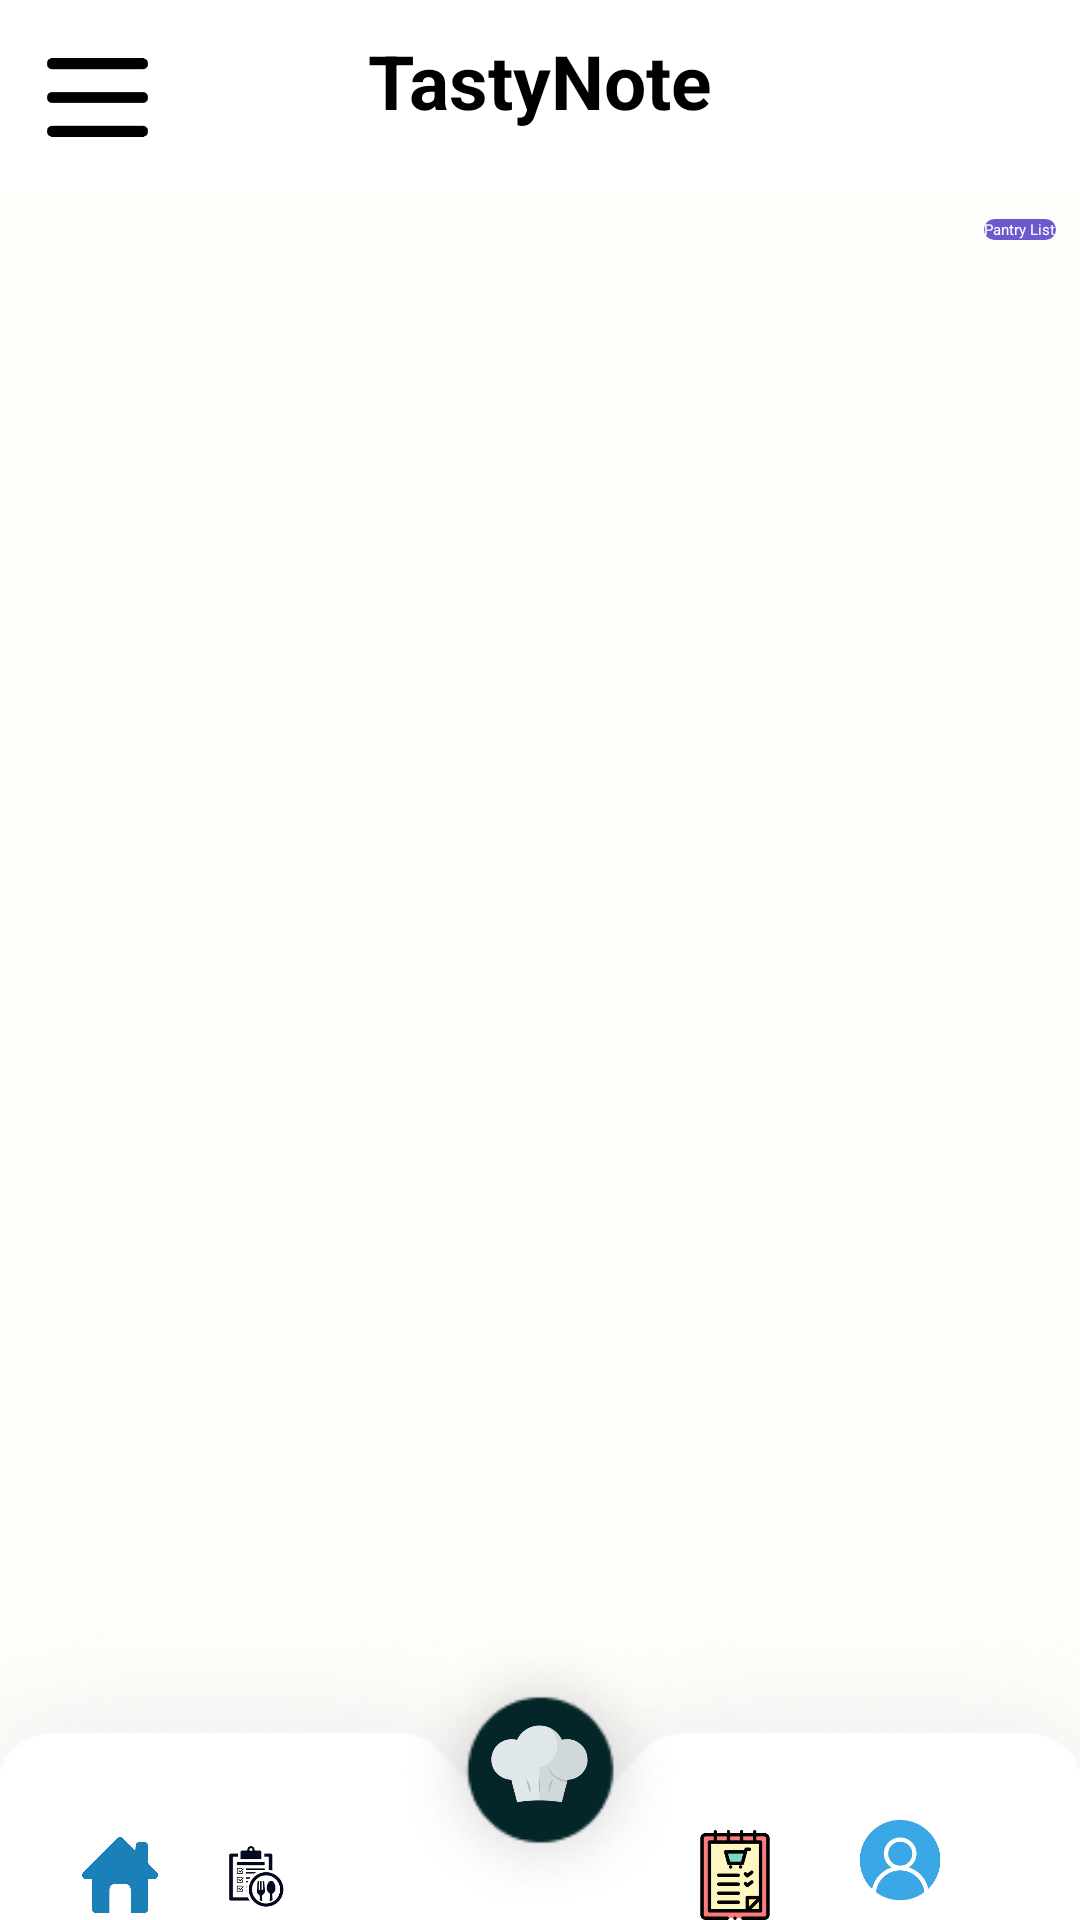

Icons on this 1080px×1920px Android screen, each with its box as {"x1": x1, "y1": y1, "x2": x2, "y2": y2}:
chef hat: {"x1": 465, "y1": 1696, "x2": 614, "y2": 1833}
grocery list: {"x1": 700, "y1": 1830, "x2": 770, "y2": 1920}
